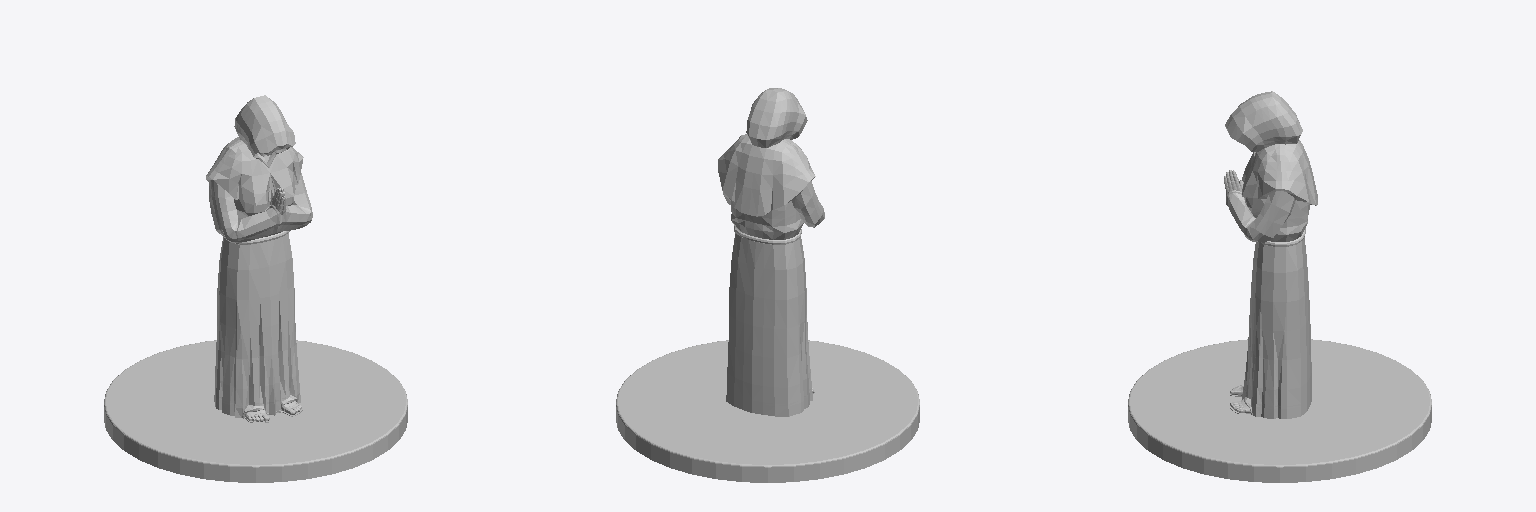
Rendered from monk_statue_triangulated.obj.
3 views of the same model, side by side, from view 1: azimuth 30°, elevation 25°; view 2: azimuth 150°, elevation 25°; view 3: azimuth 270°, elevation 25° (orthographic).
Visible parts, largest first — view 1: monkstatue; view 2: monkstatue; view 3: monkstatue.
Part boxes in pixels (bbox=[...]): monkstatue: bbox=[104, 95, 407, 482]; monkstatue: bbox=[616, 88, 919, 482]; monkstatue: bbox=[1128, 91, 1431, 482].
Bounding box in the file's own units: 8 × 9.43 × 8.